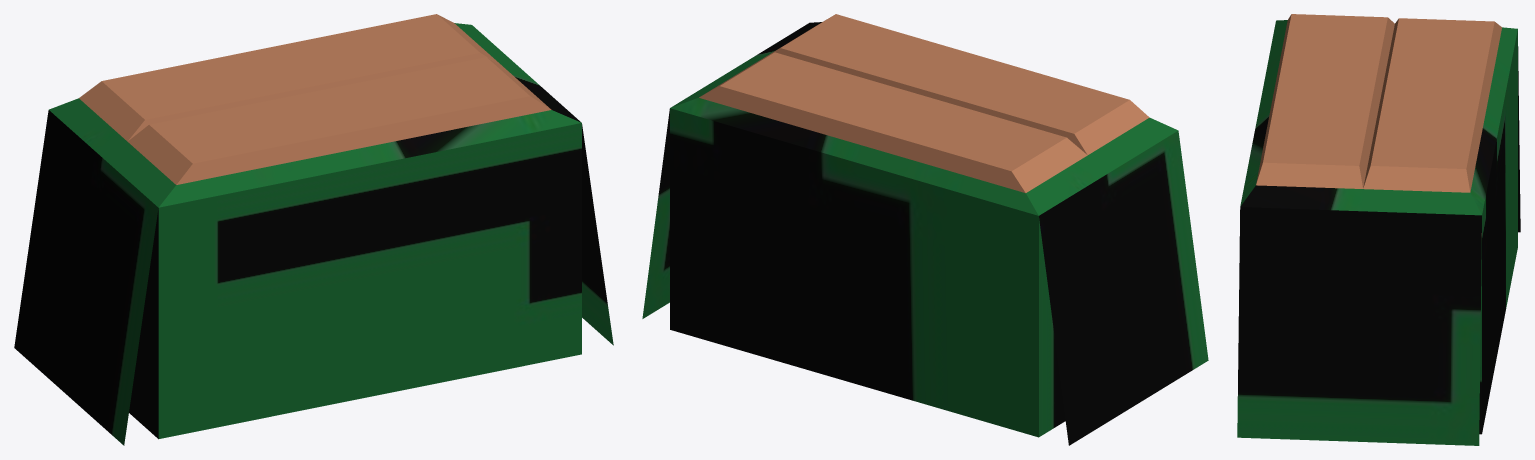
Rendered from MinigunBul500.fbx.
3 renders of one model, left to right at view 1: azimuth 30°, elevation 25°; view 2: azimuth 150°, elevation 25°; view 3: azimuth 270°, elevation 25°, orthographic. The views are drawn at different scales.
Visible parts, largest first — view 1: MinigunBul500; view 2: MinigunBul500; view 3: MinigunBul500.
Boxes of the visible parts, x1,y1,x2,y2 form: MinigunBul500: (14, 14, 613, 445); MinigunBul500: (642, 14, 1208, 445); MinigunBul500: (1237, 14, 1520, 445).
Size of the model in its own units: 3.11 by 1.58 by 1.66.
